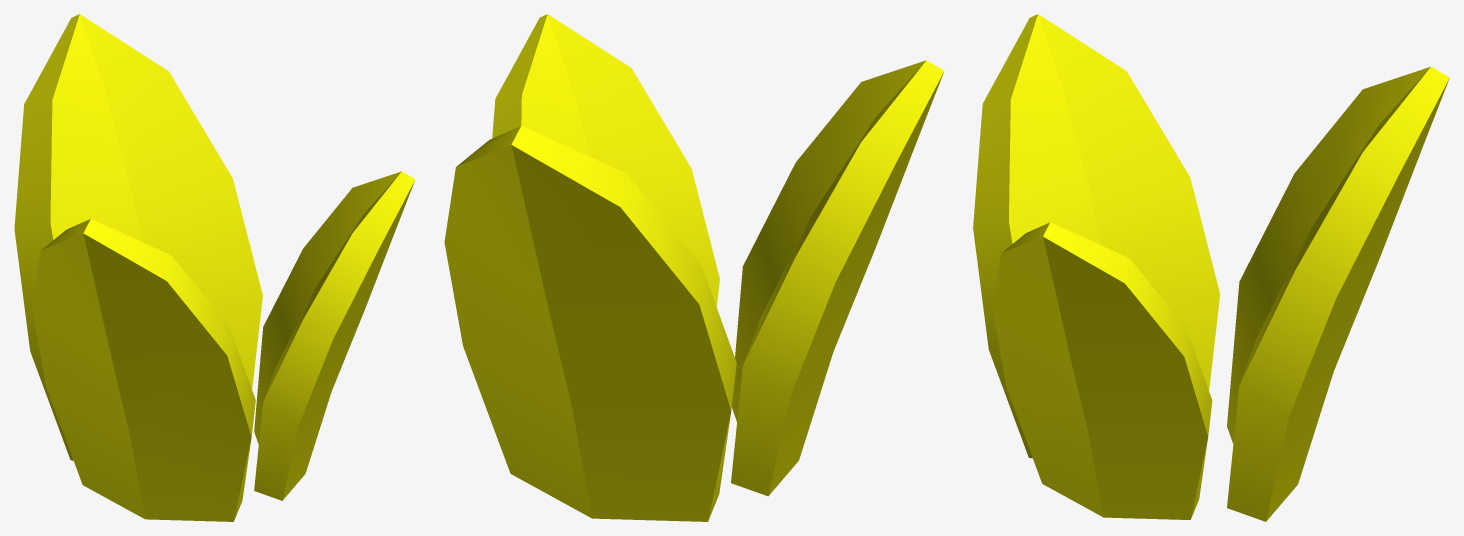
Rendered from kaykit-grass-1-b-color-1.glb.
The picture shows the model from 3 angles, left to right: view 1: azimuth 30°, elevation 25°; view 2: azimuth 150°, elevation 25°; view 3: azimuth 270°, elevation 25°; orthographic projection. The views are drawn at different scales.
Parts seen in each view (by area): view 1: Grass_1_B_Color1; view 2: Grass_1_B_Color1; view 3: Grass_1_B_Color1.
Part boxes in pixels (x1,y1,x2,y2): Grass_1_B_Color1: [14, 14, 415, 521]; Grass_1_B_Color1: [444, 14, 944, 521]; Grass_1_B_Color1: [973, 14, 1449, 521].
Size of the model in its own units: 0.505 by 0.5375 by 0.5557.
